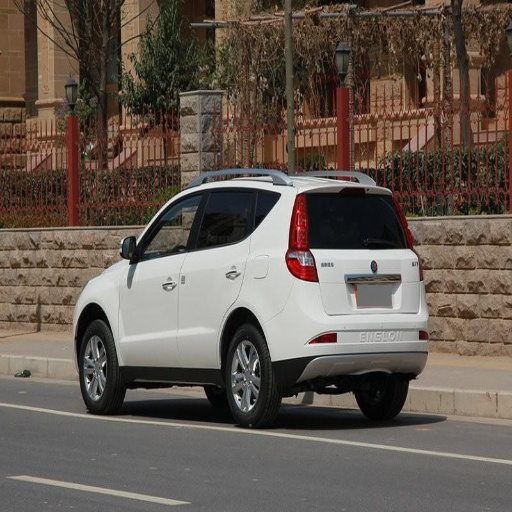back_bumper: (263, 276, 427, 383)
back_glass: (303, 188, 405, 245)
back_left_door: (180, 186, 251, 365)
